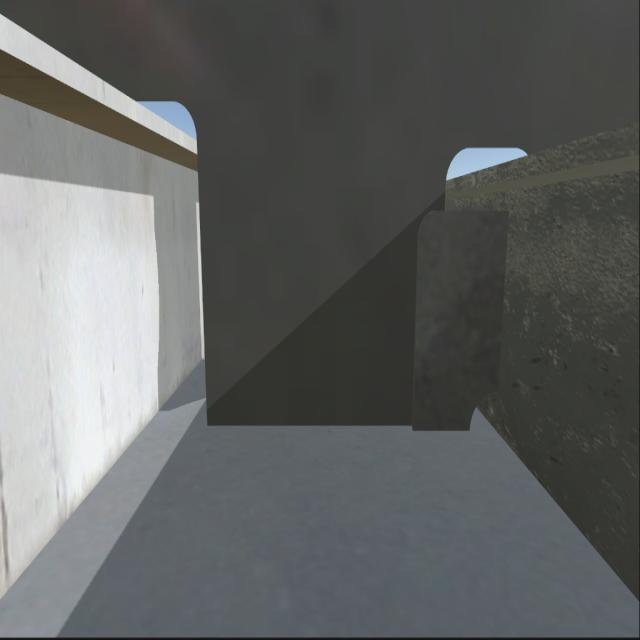fillet_hole: (468, 390, 494, 436)
fillet_yong_jeop_jang: (208, 420, 470, 430)
longi_yong_jeop_jang: (496, 220, 506, 387)
plate_CP05: (413, 205, 507, 428)
